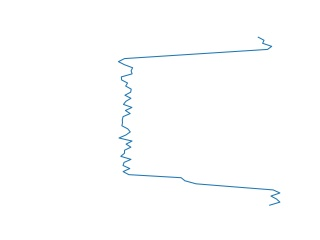distributaryChannelFill: (115, 36, 286, 209)
